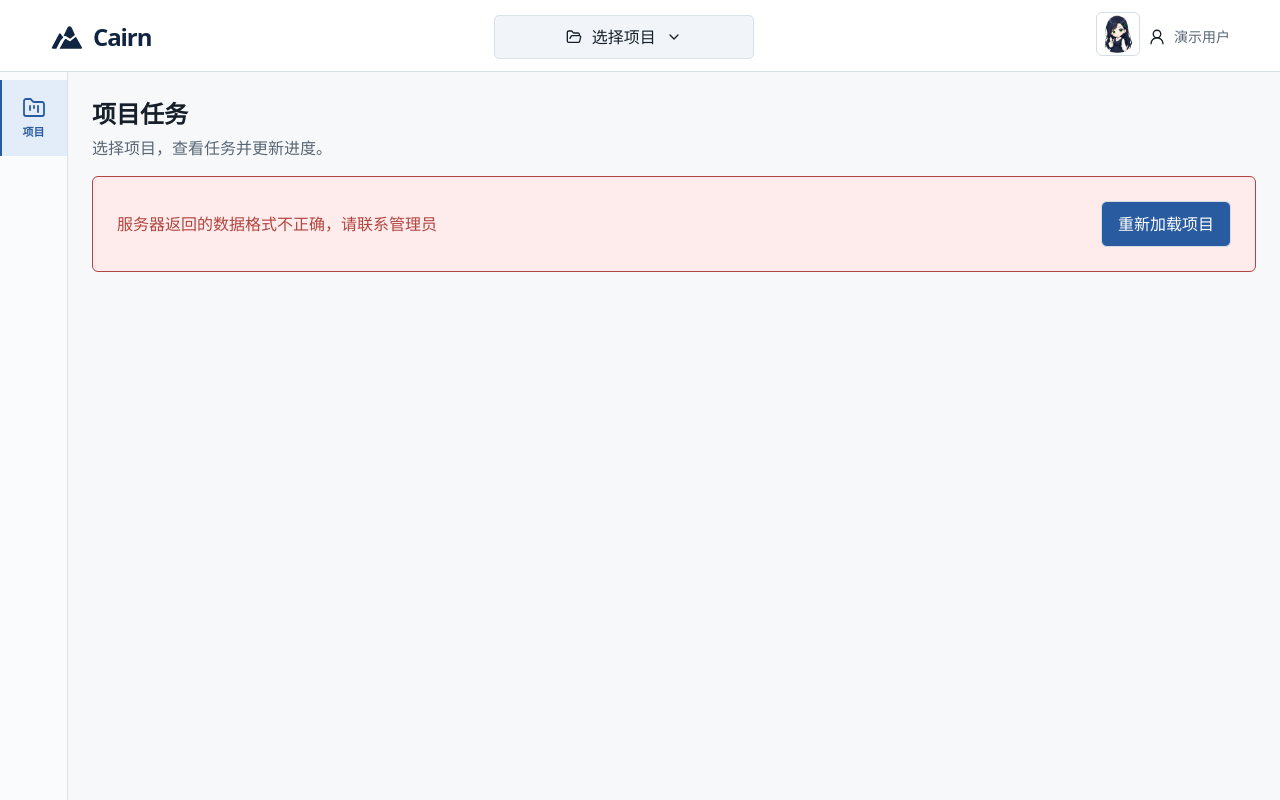
Test: authenticated routes use one extensible application shell
The width and height of the screenshot is (1280, 800).
Expected: the header "Cairn 选择项目 演示用户" is shown, [0,0,1279,72]
Expected: the heading "项目任务" is shown, [92,97,188,130]
Click the button named "打开岑宁助手": (1118, 34) [1096,12,1140,56]
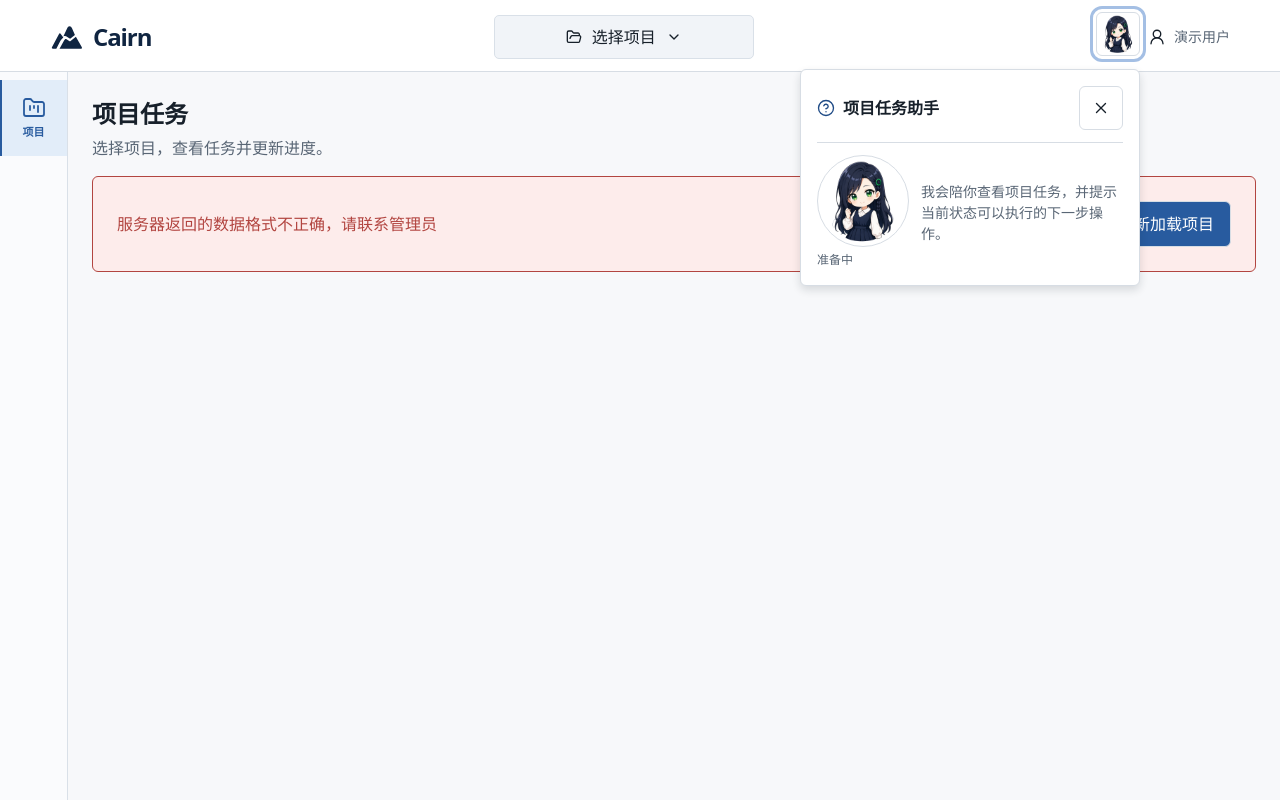
Expected: the dialog named "岑宁助手" shows "项目任务助手", [843,97,939,119]
